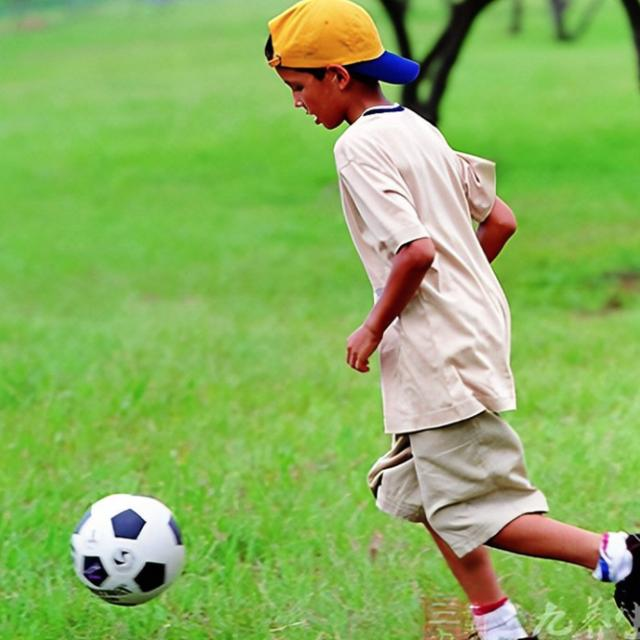football: (36, 466, 224, 612)
